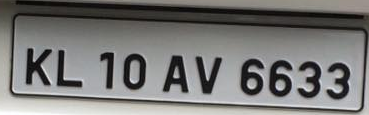0: (122, 51, 149, 91)
1: (99, 51, 117, 89)
3: (297, 60, 323, 99), (326, 61, 351, 101)
6: (268, 57, 294, 98), (240, 57, 265, 96)
A: (161, 51, 190, 94)
K: (24, 46, 53, 87)
L: (55, 48, 85, 89)
V: (194, 53, 224, 96)
